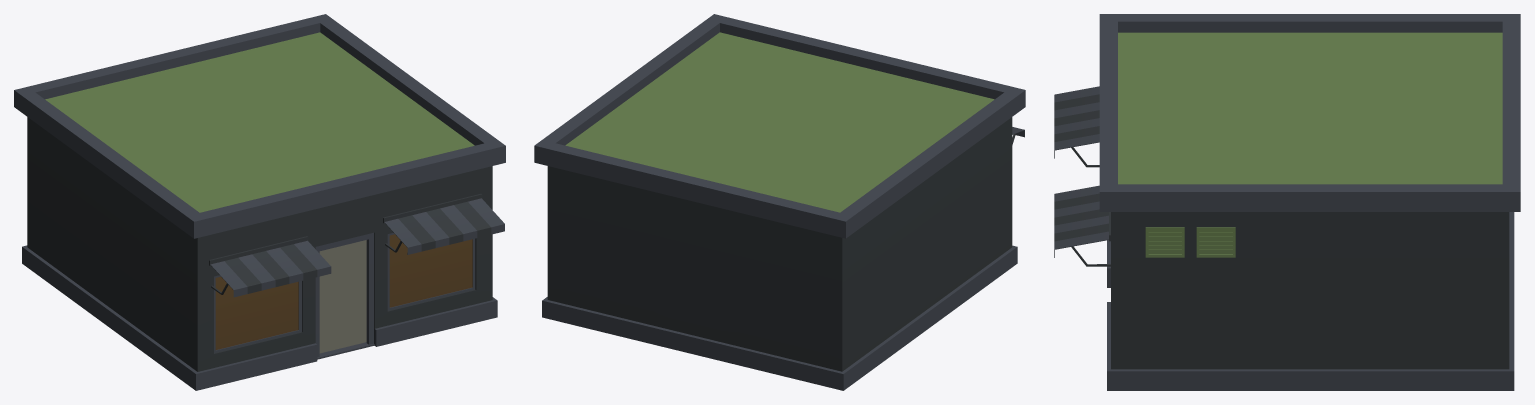
Rendered from SmallHouse_05.fbx.
3 renders of one model, left to right at view 1: azimuth 30°, elevation 25°; view 2: azimuth 150°, elevation 25°; view 3: azimuth 270°, elevation 25°, orthographic. The views are drawn at different scales.
Parts seen in each view (by area): view 1: SmallHouse_05; view 2: SmallHouse_05; view 3: SmallHouse_05.
Boxes of the visible parts, box(x1,y1,x2,y2) form: SmallHouse_05: box(14, 14, 505, 390); SmallHouse_05: box(534, 14, 1025, 390); SmallHouse_05: box(1054, 14, 1520, 390).
Size of the model in its own units: 6.34 by 3.36 by 7.03.
